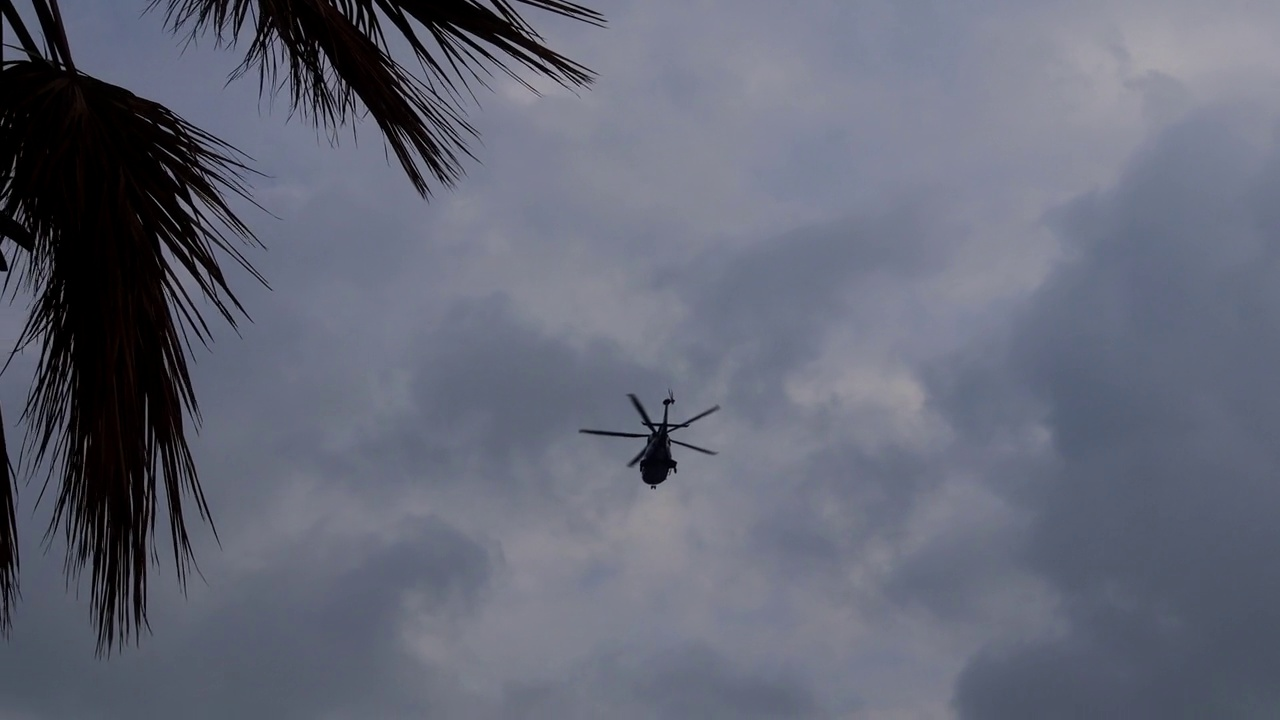heli: (578, 392, 719, 492)
